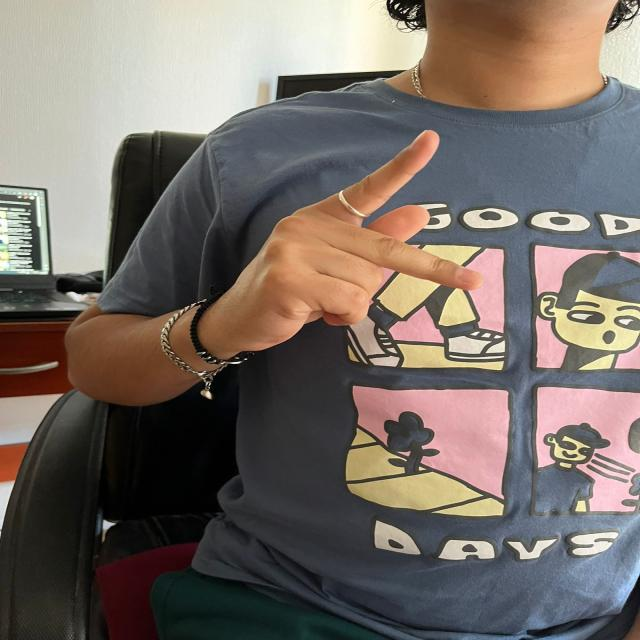K: (232, 126, 491, 350)
